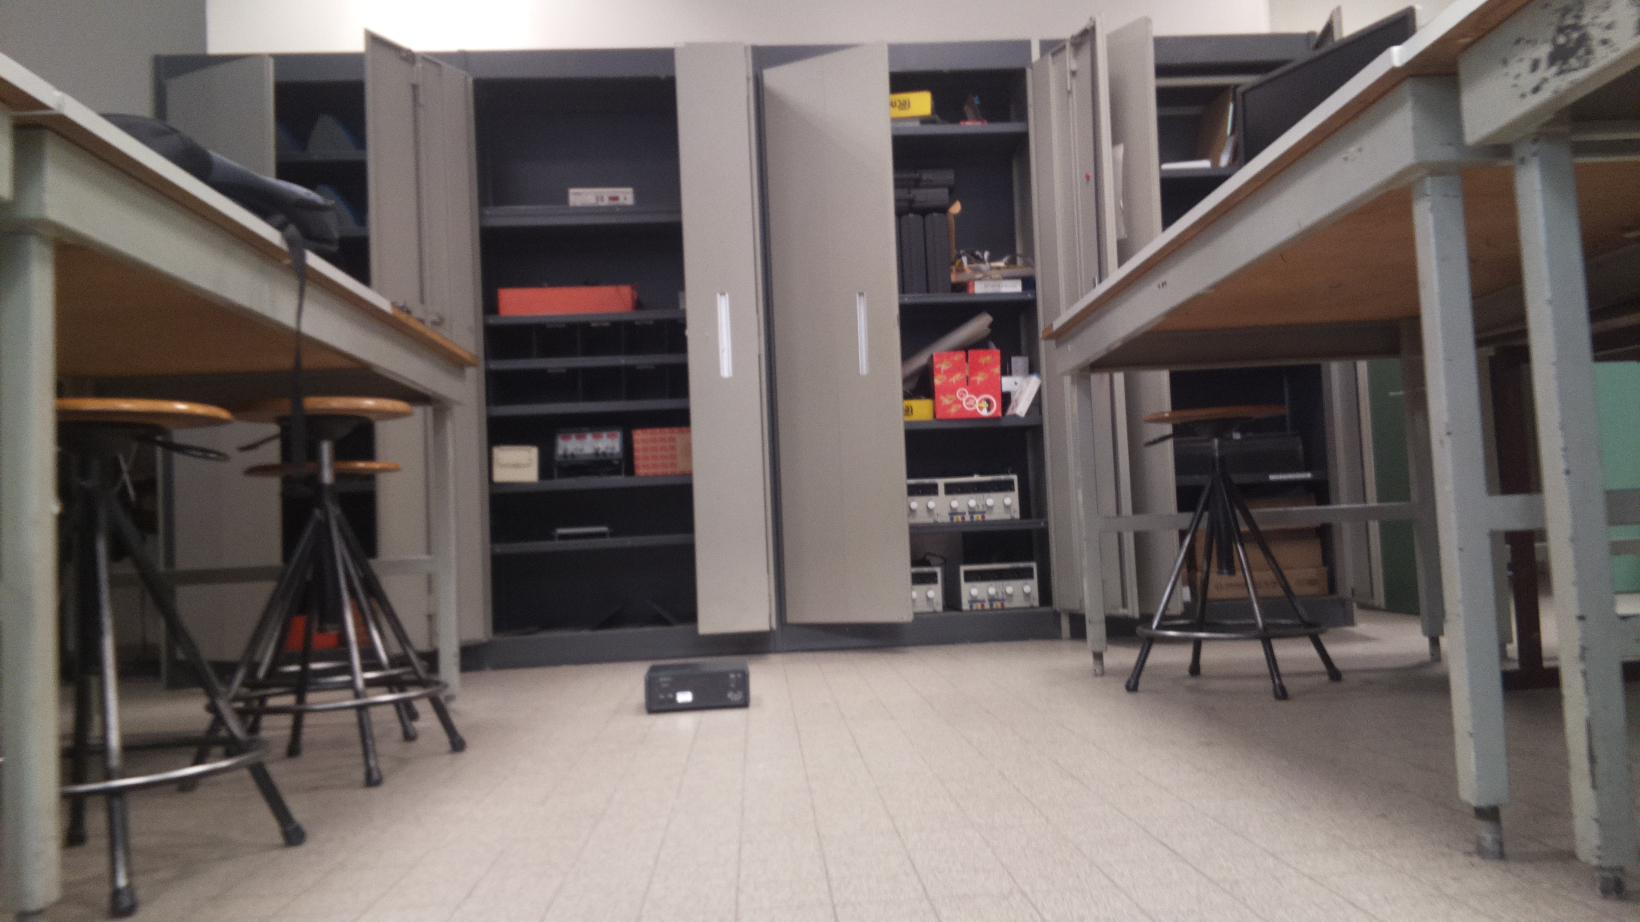medium: (642, 657, 755, 719)
